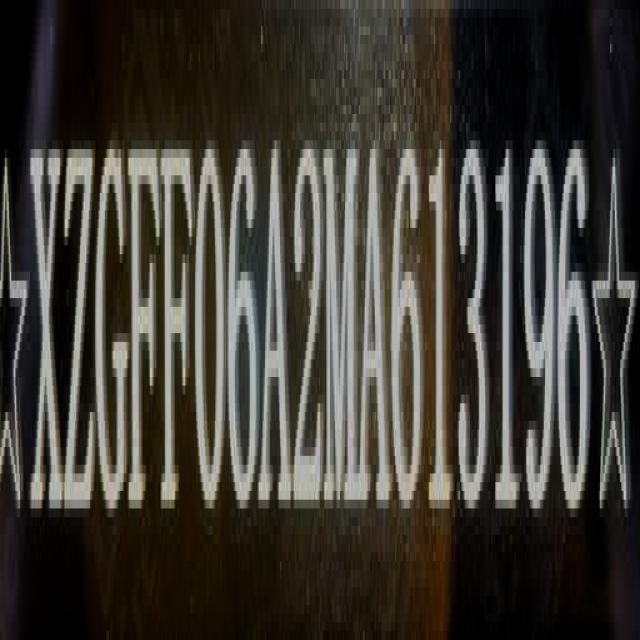0: (194, 137, 228, 519)
1: (429, 139, 453, 517), (498, 140, 518, 524)
2: (294, 138, 327, 518)
3: (459, 137, 487, 518)
6: (393, 137, 425, 517), (228, 139, 259, 520), (560, 142, 590, 522)
9: (524, 141, 556, 517)
A: (259, 136, 295, 526), (360, 134, 389, 519)
F: (131, 132, 162, 524), (163, 132, 194, 522)
G: (96, 139, 132, 525)
M: (327, 136, 361, 520)
X: (30, 132, 60, 529)
Z: (62, 134, 94, 527)
